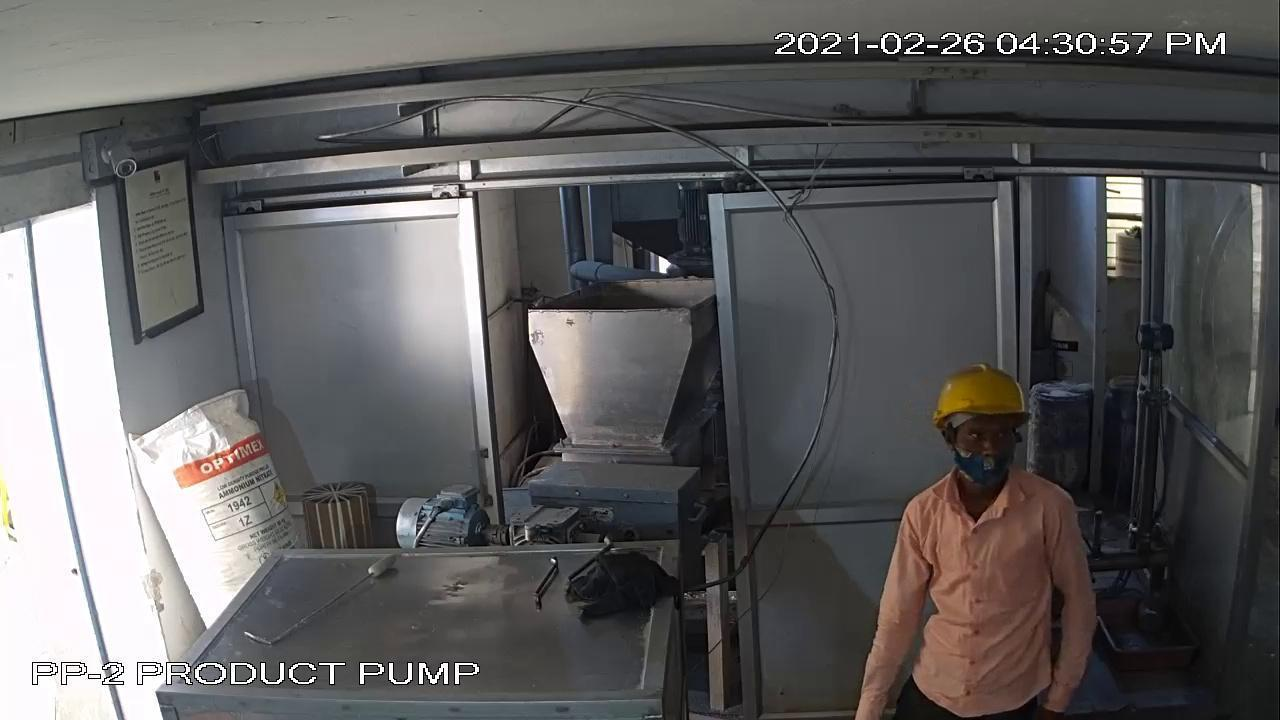helmet: (923, 353, 1038, 436)
